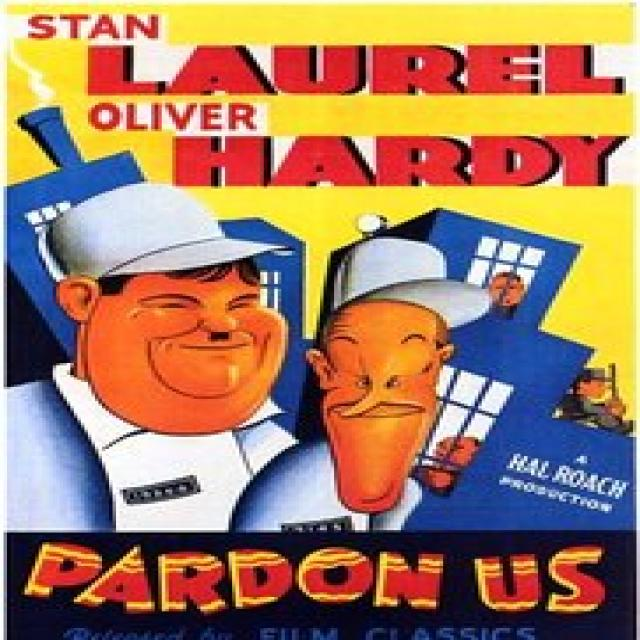movie-judul: (2, 532, 637, 618)
picture: (13, 184, 640, 529)
